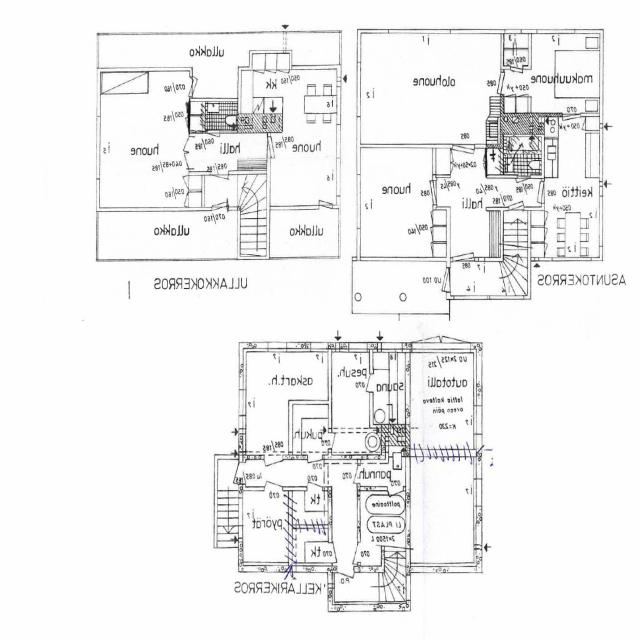door: (412, 306, 442, 353), (442, 306, 471, 353), (453, 144, 475, 175), (453, 231, 474, 261), (426, 268, 451, 292), (414, 180, 436, 205), (222, 462, 246, 484), (264, 455, 282, 483), (264, 464, 282, 491), (337, 566, 354, 594), (483, 72, 504, 94), (524, 181, 544, 204), (210, 172, 228, 197), (266, 137, 286, 158), (563, 114, 580, 138), (328, 542, 348, 562), (341, 542, 361, 562), (212, 187, 228, 212), (387, 486, 403, 510), (307, 466, 322, 491), (190, 76, 208, 96), (509, 188, 524, 210), (355, 374, 373, 392), (342, 466, 360, 484), (308, 455, 322, 477), (318, 189, 332, 210), (328, 432, 345, 449), (511, 65, 524, 86), (207, 130, 220, 150), (177, 137, 192, 153), (177, 153, 192, 169), (518, 176, 530, 193)
